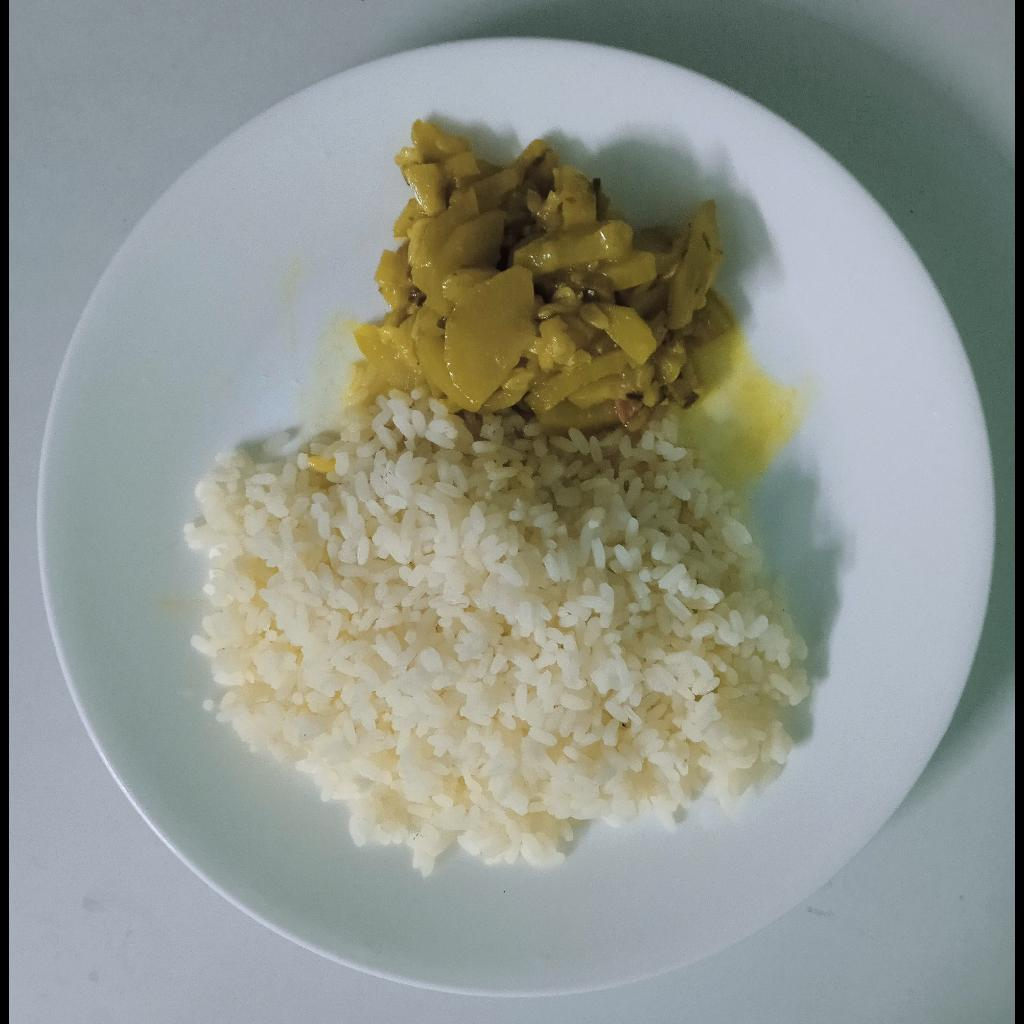dundol: (341, 116, 738, 431)
rice: (188, 406, 807, 883)
